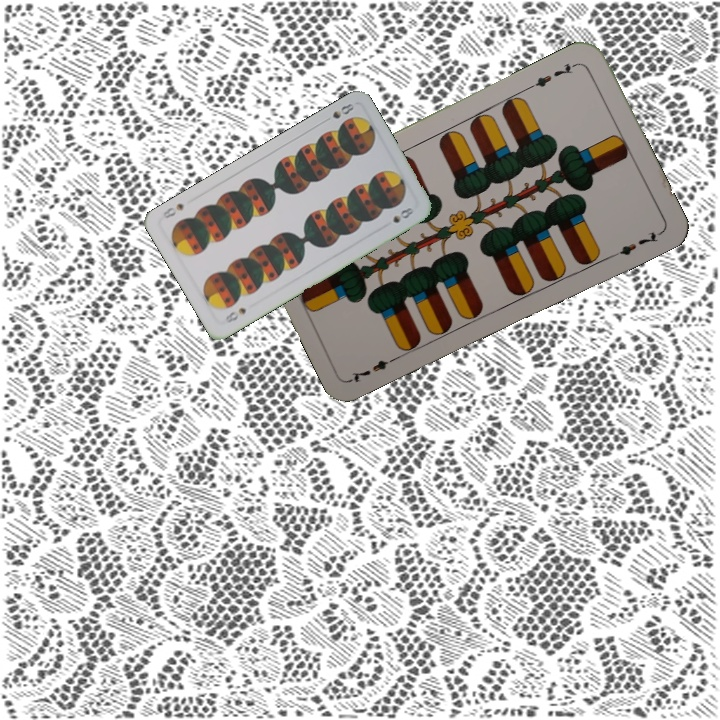E7: (347, 351, 403, 385), (526, 58, 581, 91)
S8: (319, 99, 357, 125), (221, 303, 249, 326)
